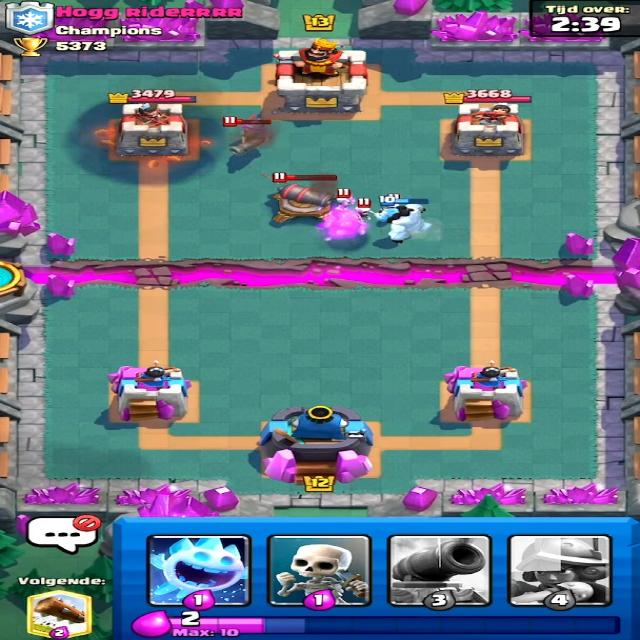Cannon_Card: (388, 534, 495, 606)
Enemy_Cannon_Troop: (269, 179, 342, 225)
Enemy_Musketeer_Troop: (226, 120, 283, 158)
Enemy_Skeleton_Troop: (351, 200, 379, 222), (337, 193, 357, 212)
Ice_Golem_Troop: (378, 196, 432, 244)
Ice_Spirit_Card: (154, 535, 252, 605)
Musketeer_Card: (509, 534, 609, 605)
Skeleton_Card: (274, 535, 384, 601)
